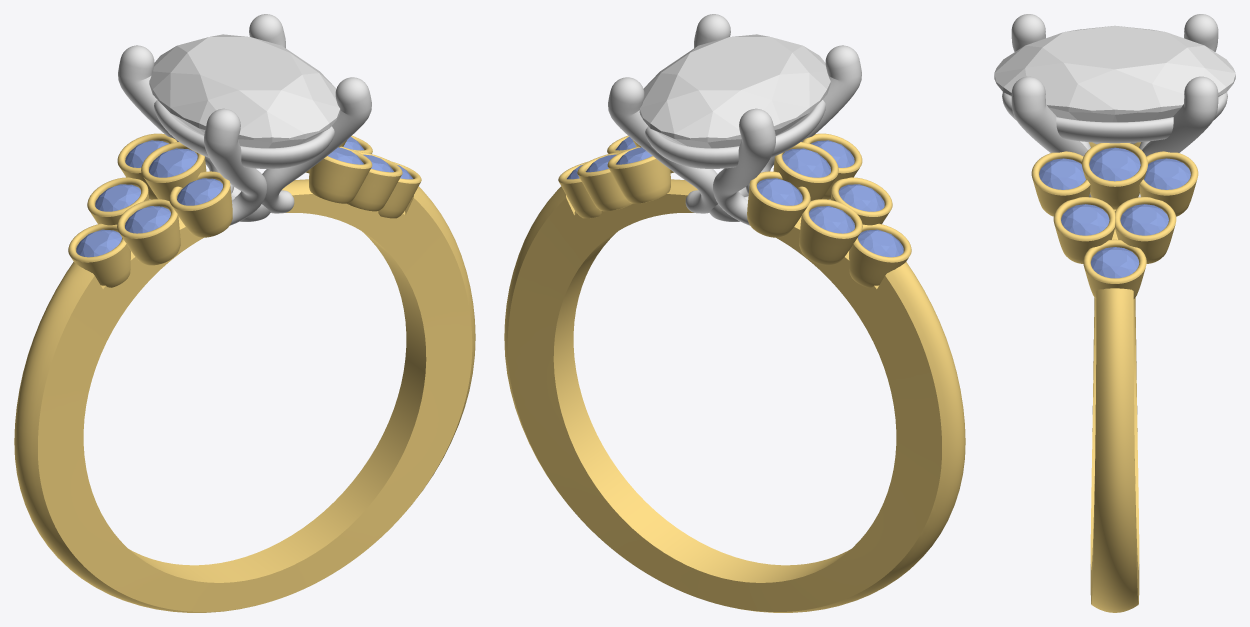
Rendered from SarahD PT.glb.
3 views of the same model, side by side, from view 1: azimuth 30°, elevation 25°; view 2: azimuth 150°, elevation 25°; view 3: azimuth 270°, elevation 25° (orthographic).
Parts seen in each view (by area): view 1: Sarah YG for 3d model, Sarah dia for 3d model, Sarah PT for 3d model, Sarah sapph for 3d model.003, Sarah sapph for 3d model.005, Sarah sapph for 3d model.009, Sarah sapph for 3d model.010, Sarah sapph for 3d model.011; view 2: Sarah YG for 3d model, Sarah dia for 3d model, Sarah PT for 3d model, Sarah sapph for 3d model.003, Sarah sapph for 3d model.004, Sarah sapph for 3d model.010, Sarah sapph for 3d model.009, Sarah sapph for 3d model.011; view 3: Sarah YG for 3d model, Sarah dia for 3d model, Sarah PT for 3d model, Sarah sapph for 3d model, Sarah sapph for 3d model.006, Sarah sapph for 3d model.007, Sarah sapph for 3d model.008, Sarah sapph for 3d model.001, Sarah sapph for 3d model.002.
Part boxes in pixels (x1,y1,x2,y2): Sarah YG for 3d model: [14, 133, 475, 612]; Sarah dia for 3d model: [149, 34, 340, 148]; Sarah PT for 3d model: [118, 14, 371, 225]; Sarah sapph for 3d model.003: [149, 148, 197, 177]; Sarah sapph for 3d model.005: [177, 178, 222, 205]; Sarah sapph for 3d model.009: [95, 184, 140, 211]; Sarah sapph for 3d model.010: [125, 206, 170, 233]; Sarah sapph for 3d model.011: [76, 229, 121, 257]; Sarah YG for 3d model: [504, 133, 965, 612]; Sarah dia for 3d model: [639, 34, 830, 148]; Sarah PT for 3d model: [608, 14, 861, 225]; Sarah sapph for 3d model.003: [782, 148, 830, 177]; Sarah sapph for 3d model.004: [757, 178, 802, 205]; Sarah sapph for 3d model.010: [838, 184, 884, 211]; Sarah sapph for 3d model.009: [809, 206, 854, 233]; Sarah sapph for 3d model.011: [858, 229, 903, 257]; Sarah YG for 3d model: [1031, 142, 1198, 612]; Sarah dia for 3d model: [994, 25, 1235, 144]; Sarah PT for 3d model: [1002, 14, 1227, 197]; Sarah sapph for 3d model: [1089, 147, 1140, 181]; Sarah sapph for 3d model.006: [1120, 204, 1168, 235]; Sarah sapph for 3d model.007: [1061, 204, 1109, 235]; Sarah sapph for 3d model.008: [1090, 247, 1139, 278]; Sarah sapph for 3d model.001: [1144, 158, 1190, 189]; Sarah sapph for 3d model.002: [1039, 158, 1085, 189].
Bounding box in the file's own units: 18.42 × 20.82 × 8.46.
